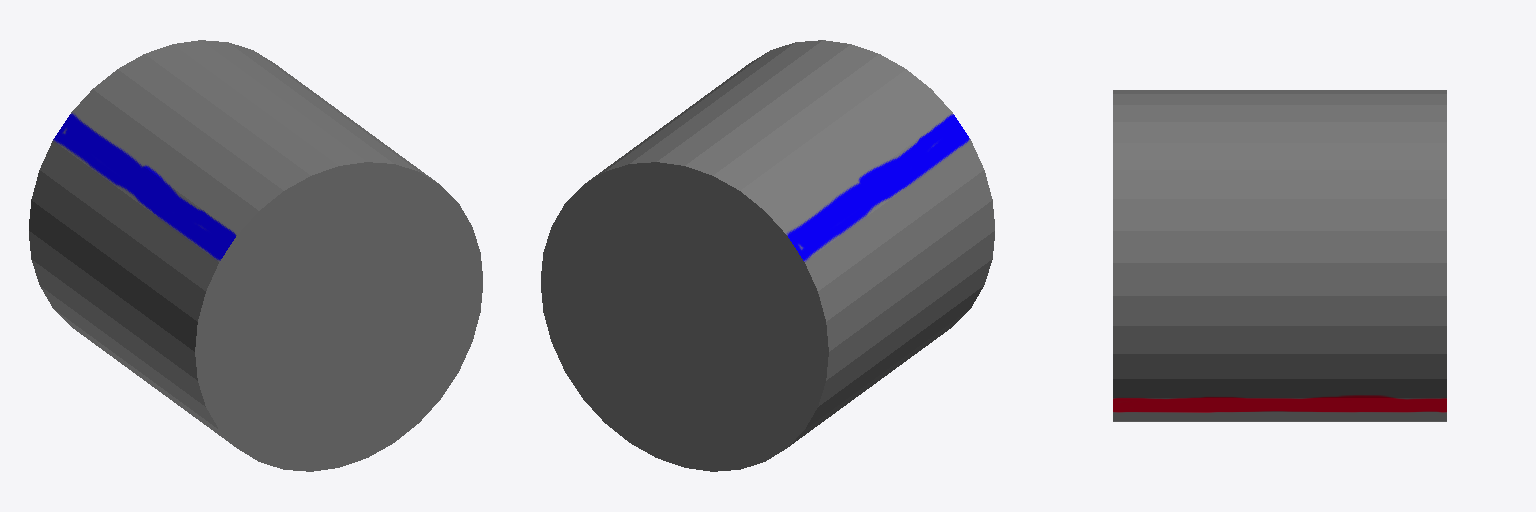
3 views of the same model, side by side, from view 1: azimuth 30°, elevation 25°; view 2: azimuth 150°, elevation 25°; view 3: azimuth 270°, elevation 25° (orthographic).
Visible parts, largest first — view 1: Cylinder; view 2: Cylinder; view 3: Cylinder.
Boxes of the visible parts, x1=… form: Cylinder: x1=29, y1=40, x2=482, y2=471; Cylinder: x1=541, y1=40, x2=994, y2=471; Cylinder: x1=1113, y1=90, x2=1446, y2=421.
Bounding box in the file's own units: 2 × 2 × 2.
Materials: 1 (1 with a texture image).